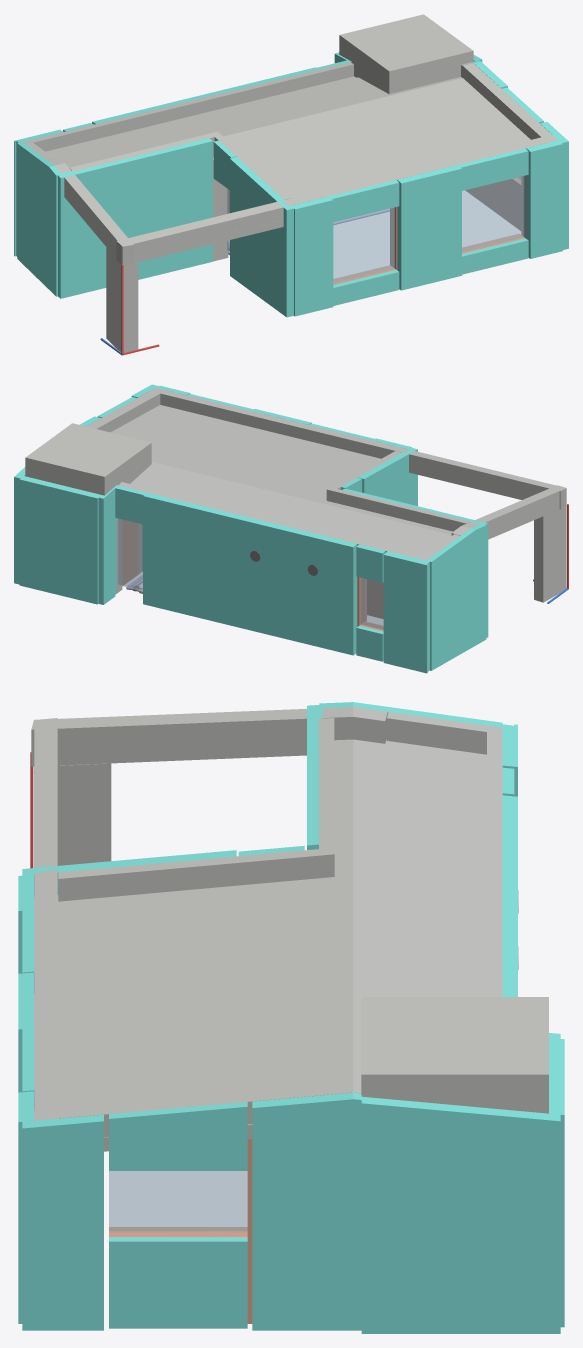
The model's file is House_AR_AT.glb.
The picture shows the model from 3 angles, top to bottom: view 1: azimuth 30°, elevation 25°; view 2: azimuth 150°, elevation 25°; view 3: azimuth 270°, elevation 25°; orthographic projection. The views are drawn at different scales.
Visible parts, largest first — view 1: RF-SLAB, AT-ET07, AT-ET10, AT-ET12, RF-LIFT-TOP, RF-PARAPET02, AT-ET06, AT-ET13, AT-ET09, AT-EO04, AT-EO05, AT-BEAM01 (+18 smaller); view 2: AT-ET11, RF-SLAB, AT-ET03, AT-ET06, AT-ET05, RF-LIFT-TOP, AT-BEAM02, AT-BEAM01, AT-COL03, AT-BEAM03, AT-ET12, AT-ET04 (+16 smaller); view 3: RF-SLAB, AT-ET02, AT-ET01, AT-ET08, RF-LIFT-TOP, AT-EO03-SILL-ET, AT-BEAM03, AT-EO03-HEAD-ET, AT-EO03, RF-PARAPET04, AT-BEAM02, AT-COL03 (+19 smaller).
Part boxes in pixels (box(x1,y1,x2,y2)): RF-SLAB: box(45, 76, 530, 264); AT-ET07: box(55, 138, 212, 298); AT-ET10: box(397, 165, 461, 290); AT-ET12: box(230, 157, 293, 317); RF-LIFT-TOP: box(339, 14, 473, 78); RF-PARAPET02: box(30, 62, 353, 151); AT-ET06: box(17, 142, 60, 295); AT-ET13: box(291, 197, 333, 316); AT-ET09: box(526, 140, 562, 258); AT-EO04: box(462, 176, 524, 252); AT-EO05: box(333, 207, 394, 283); AT-BEAM01: box(116, 192, 326, 264); AT-ET11: box(143, 492, 357, 655); RF-SLAB: box(110, 405, 531, 555); AT-ET03: box(19, 476, 100, 604); AT-ET06: box(427, 524, 485, 670); AT-ET05: box(383, 551, 431, 673); RF-LIFT-TOP: box(25, 423, 151, 483); AT-BEAM02: box(150, 388, 404, 457); AT-BEAM01: box(368, 441, 565, 509); AT-COL03: box(534, 506, 566, 602); AT-BEAM03: box(451, 485, 566, 539); AT-ET12: box(357, 447, 417, 505); AT-ET04: box(98, 488, 116, 604); RF-SLAB: box(34, 739, 486, 1151); AT-ET02: box(361, 1096, 560, 1333); AT-ET01: box(252, 1092, 361, 1330); AT-ET08: box(22, 1114, 103, 1330); RF-LIFT-TOP: box(361, 997, 548, 1088); AT-EO03-SILL-ET: box(109, 1237, 247, 1328); AT-BEAM03: box(31, 707, 387, 766); AT-EO03-HEAD-ET: box(109, 1102, 247, 1170); AT-EO03: box(109, 1171, 247, 1232); RF-PARAPET04: box(58, 847, 334, 901); AT-BEAM02: box(34, 872, 57, 1120); AT-COL03: box(34, 763, 111, 865).
Size of the model in its own units: 12.49 by 3.55 by 7.
